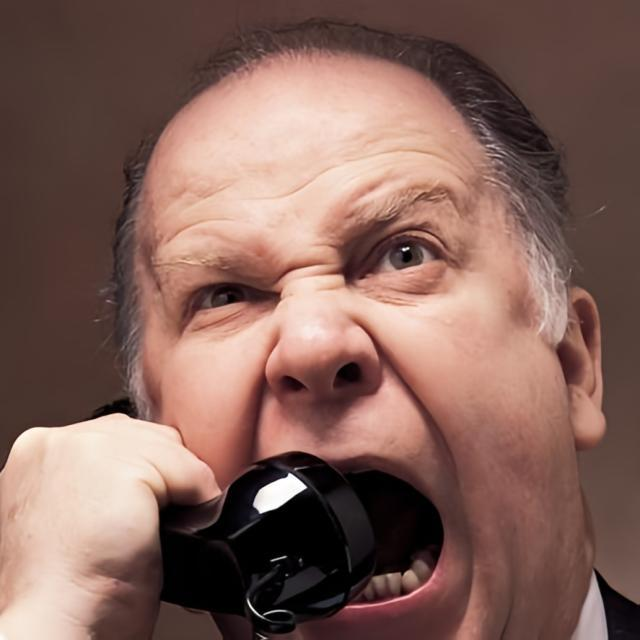anger: (148, 66, 552, 605)
